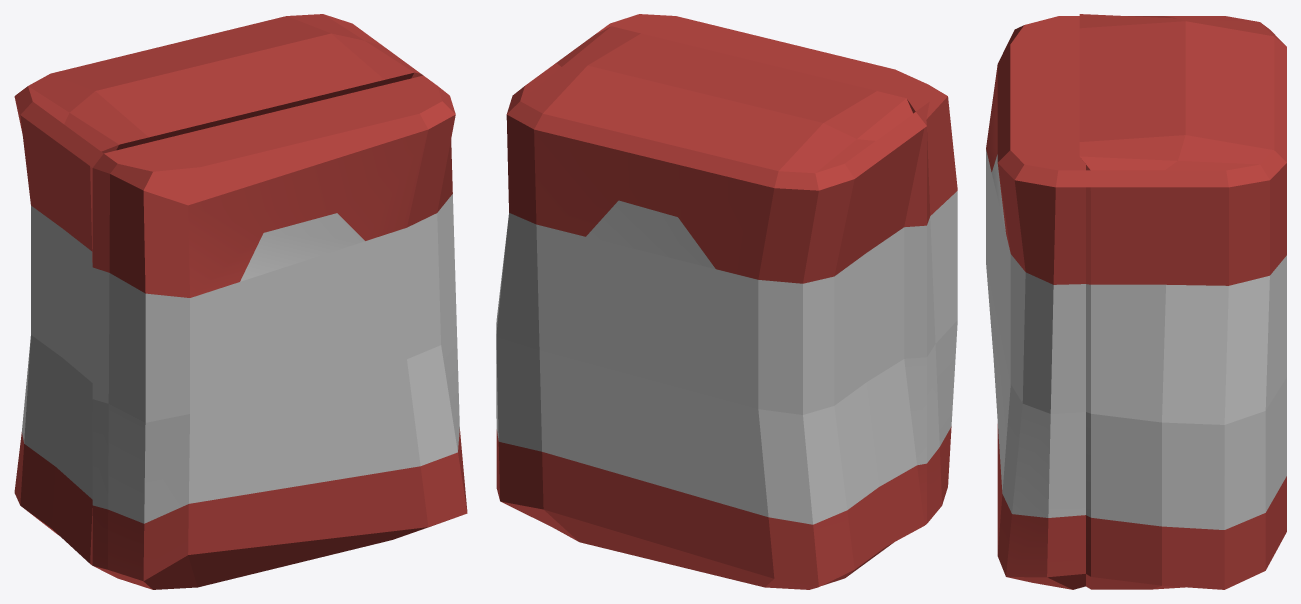
The model's file is SM_Flour.fbx.
3 renders of one model, left to right at view 1: azimuth 30°, elevation 25°; view 2: azimuth 150°, elevation 25°; view 3: azimuth 270°, elevation 25°, orthographic.
Visible parts, largest first — view 1: Flour; view 2: Flour; view 3: Flour.
Part boxes in pixels (x1,y1,x2,y2): Flour: [14, 14, 467, 589]; Flour: [496, 14, 957, 589]; Flour: [986, 14, 1286, 589].
Bounding box in the file's own units: 40.56 × 46.66 × 29.14.
